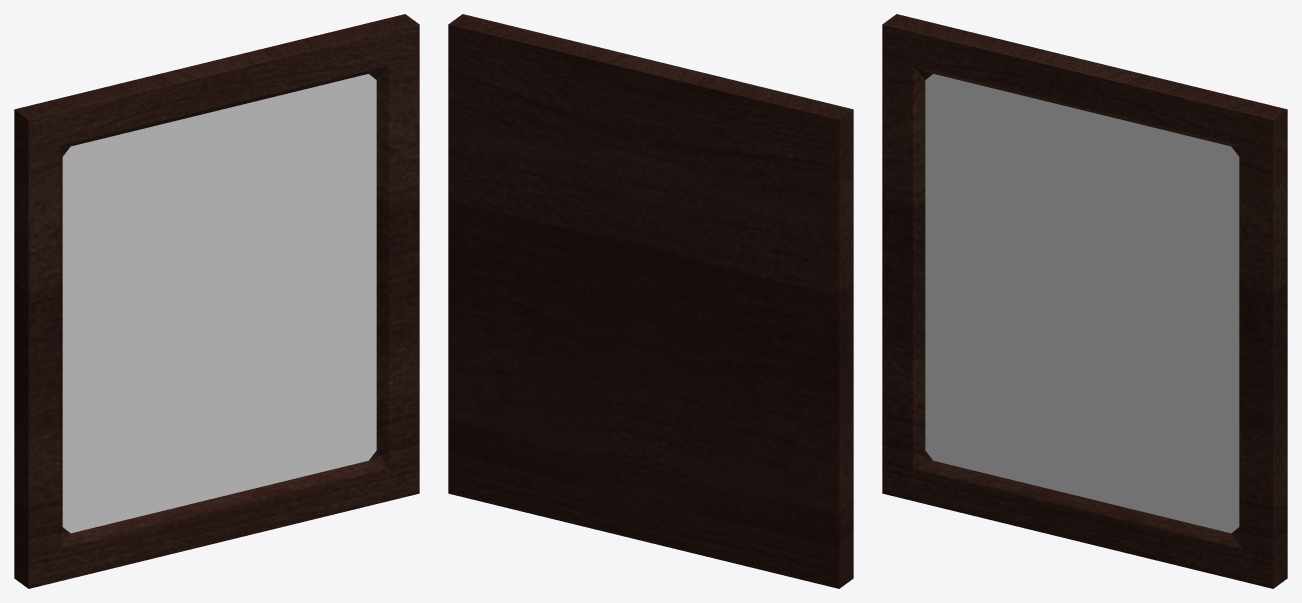
File: PictureFrame.fbx
3 views of the same model, side by side, from view 1: azimuth 30°, elevation 25°; view 2: azimuth 150°, elevation 25°; view 3: azimuth 330°, elevation 25° (orthographic).
Visible parts, largest first — view 1: Cube.001, PictureFrame; view 2: PictureFrame; view 3: Cube.001, PictureFrame.
Part boxes in pixels (box(x1,y1,x2,y2)): Cube.001: box(62, 74, 376, 533); PictureFrame: box(14, 14, 419, 588); PictureFrame: box(448, 14, 853, 588); Cube.001: box(925, 74, 1239, 533); PictureFrame: box(882, 14, 1287, 588).
Bounding box in the file's own units: 200 × 229 × 12.83.
Materials: 2 (1 with a texture image).
